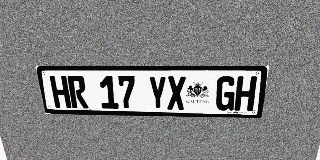1: (98, 76, 119, 109)
7: (117, 76, 137, 109)
G: (215, 76, 237, 111)
H: (234, 76, 257, 111), (49, 76, 72, 108)
R: (67, 76, 89, 108)
X: (167, 76, 186, 110)
Y: (148, 76, 167, 110)
